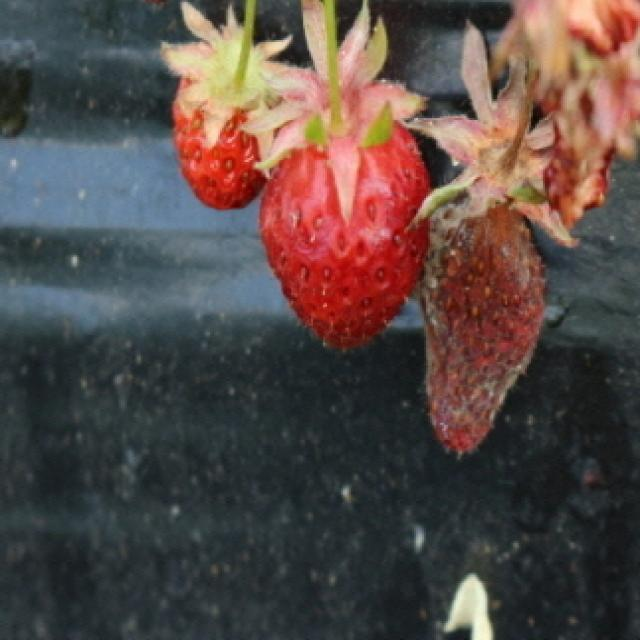Gray Mold: (403, 24, 580, 459)
